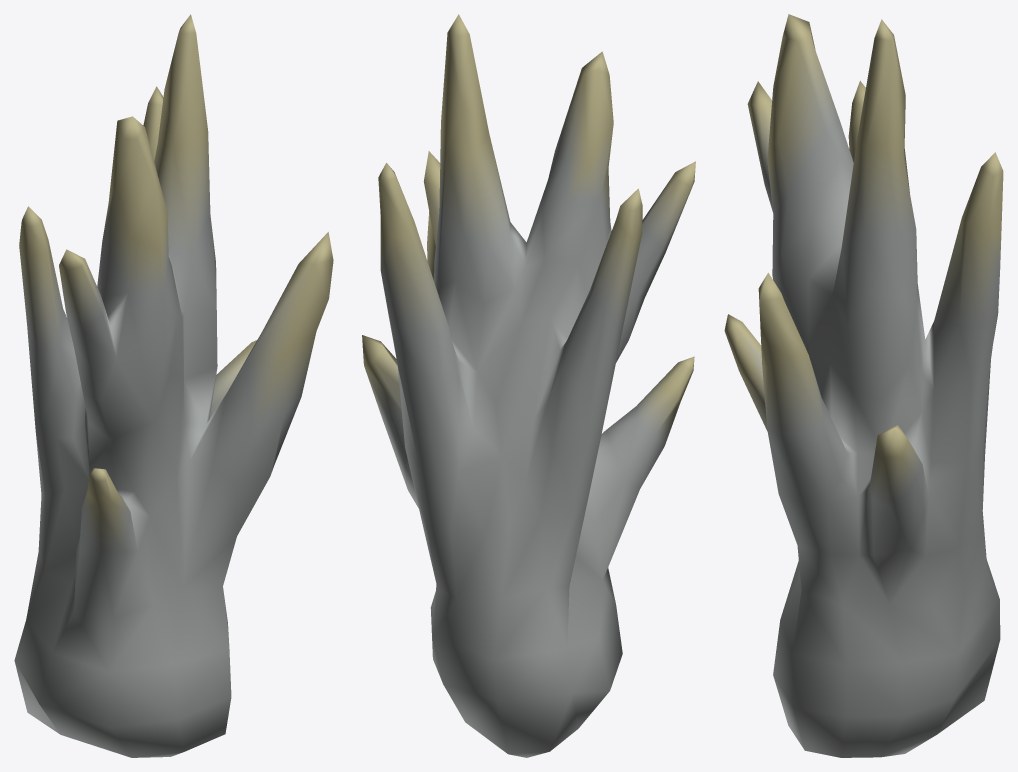
3 views of the same model, side by side, from view 1: azimuth 30°, elevation 25°; view 2: azimuth 150°, elevation 25°; view 3: azimuth 270°, elevation 25° (orthographic). The views are drawn at different scales.
Parts seen in each view (by area): view 1: G:\FFXIV-MapTools\exports\l1f1\bg\ffxiv\lak_l1\fld\l1f1\bgpa; view 2: G:\FFXIV-MapTools\exports\l1f1\bg\ffxiv\lak_l1\fld\l1f1\bgpa; view 3: G:\FFXIV-MapTools\exports\l1f1\bg\ffxiv\lak_l1\fld\l1f1\bgpa.
Boxes of the visible parts, x1,y1,x2,y2 form: G:\FFXIV-MapTools\exports\l1f1\bg\ffxiv\lak_l1\fld\l1f1\bgpa: (14, 14, 333, 757); G:\FFXIV-MapTools\exports\l1f1\bg\ffxiv\lak_l1\fld\l1f1\bgpa: (362, 14, 695, 757); G:\FFXIV-MapTools\exports\l1f1\bg\ffxiv\lak_l1\fld\l1f1\bgpa: (724, 14, 1003, 757).
Size of the model in its own units: 7.46 by 18.71 by 6.17.
